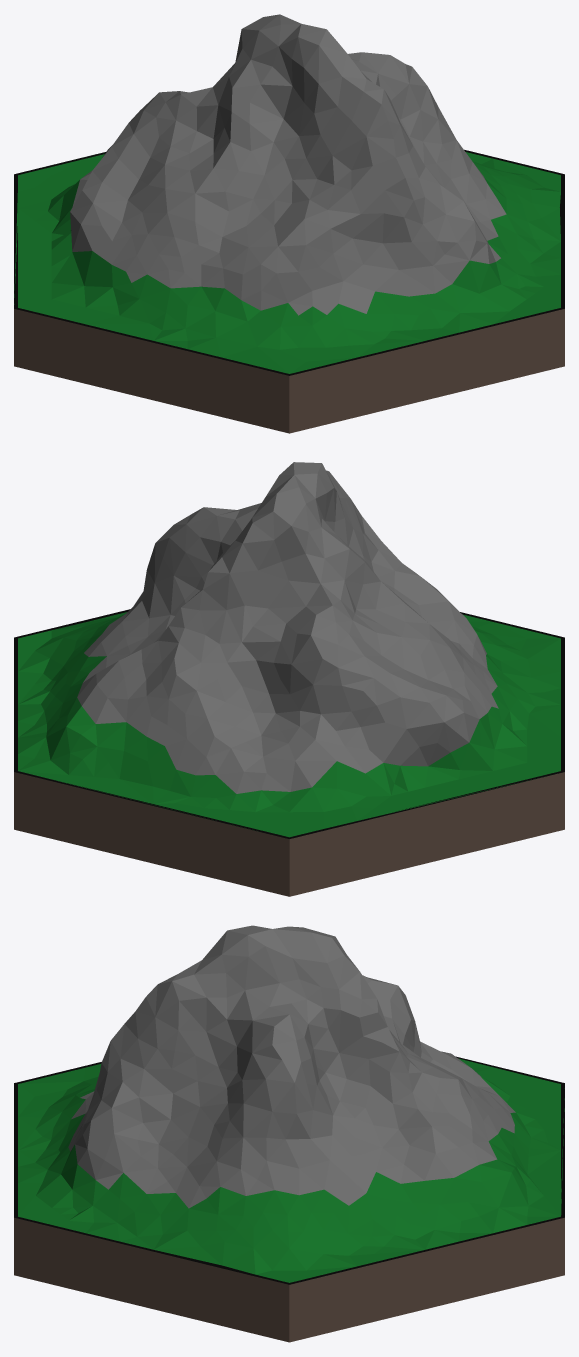
The model's file is MountainTile.fbx.
The picture shows the model from 3 angles, top to bottom: view 1: azimuth 30°, elevation 25°; view 2: azimuth 150°, elevation 25°; view 3: azimuth 270°, elevation 25°; orthographic projection.
Visible parts, largest first — view 1: Tile; view 2: Tile; view 3: Tile.
Part boxes in pixels (x1=…): Tile: x1=14, y1=14, x2=564, y2=433; Tile: x1=14, y1=462, x2=564, y2=896; Tile: x1=14, y1=925, x2=564, y2=1342.
Size of the model in its own units: 500 by 244 by 433.
